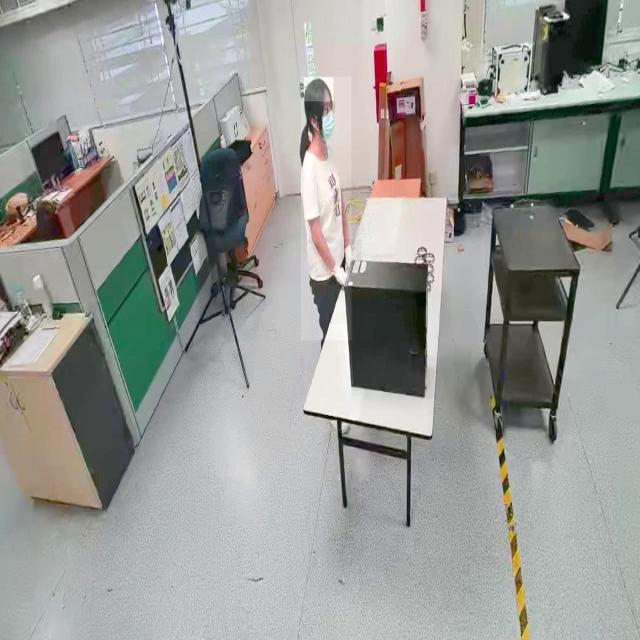face_mask: (313, 102, 339, 146)
hand_glove: (327, 257, 348, 294), (340, 239, 362, 274)
head_nohelmet: (304, 78, 334, 102)
person: (300, 76, 352, 342)
